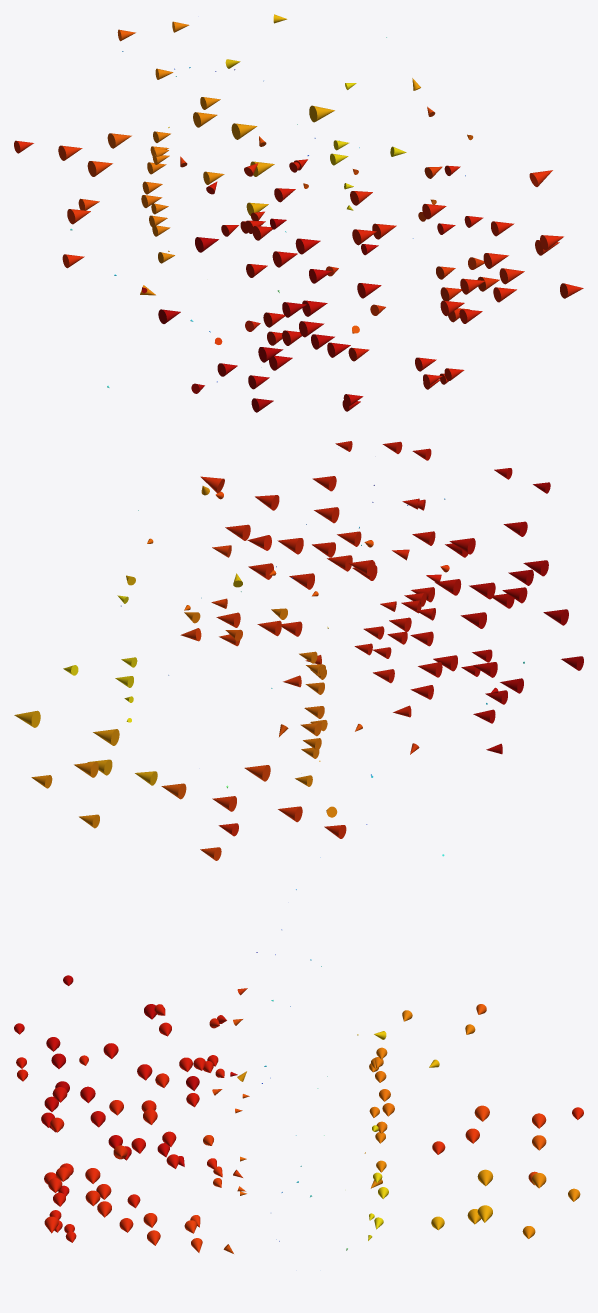
File: LineasCorrienteH2-O2_mh2-8.20_V-0.9.glb
The picture shows the model from 3 angles, top to bottom: view 1: azimuth 30°, elevation 25°; view 2: azimuth 150°, elevation 25°; view 3: azimuth 270°, elevation 25°; orthographic projection. The views are drawn at different scales.
Size of the model in its own units: 0.000913 by 0.000844 by 0.00124.
Materials: 2 (2 with a texture image).
